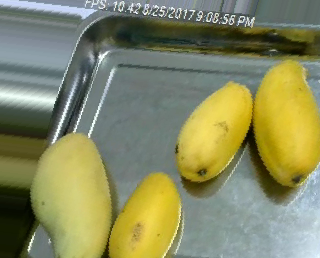Mango: (28, 126, 115, 257), (245, 49, 320, 188), (177, 80, 254, 181), (104, 165, 188, 257)
